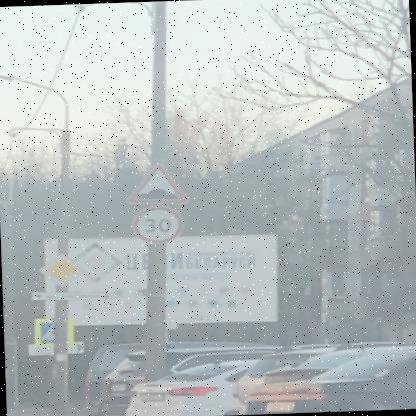crosswalk: (36, 321, 52, 343)
speedlimit: (130, 204, 179, 242)
